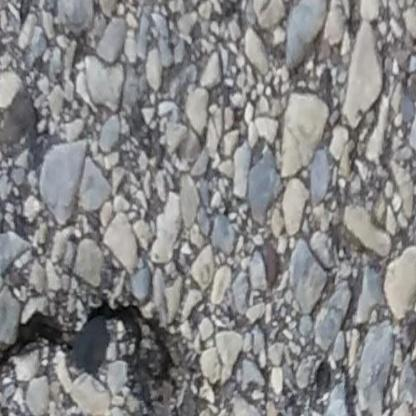Cracks: (0, 296, 227, 416)
